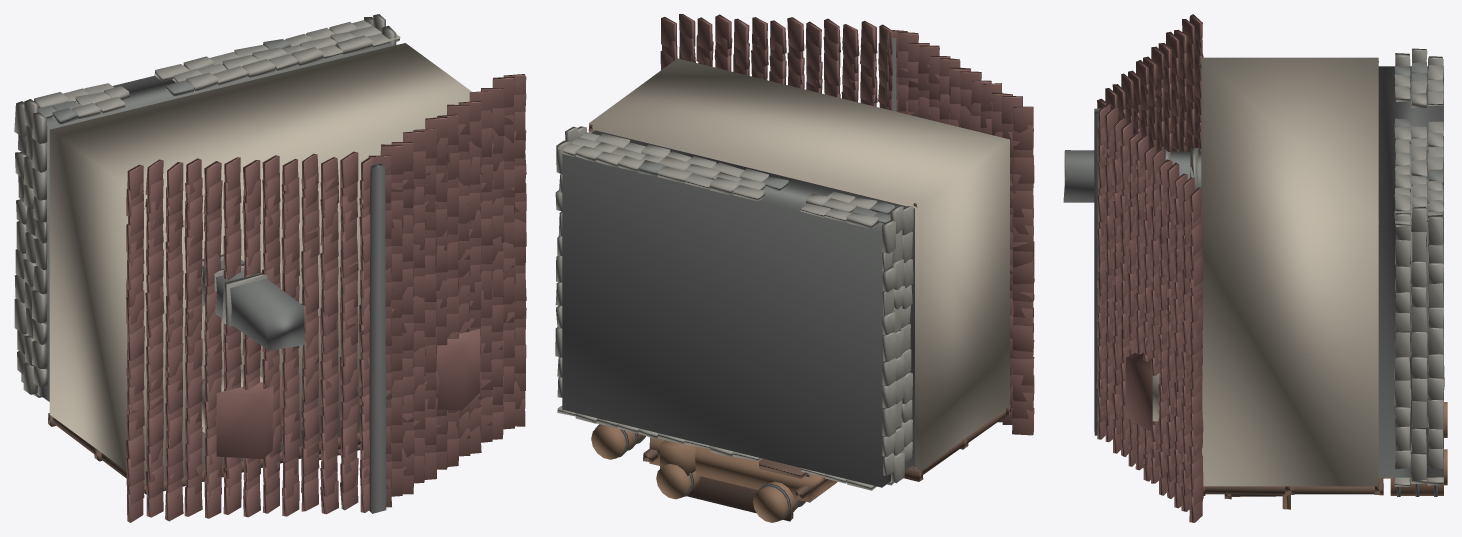
File: tavern_hd.glb
3 views of the same model, side by side, from view 1: azimuth 30°, elevation 25°; view 2: azimuth 150°, elevation 25°; view 3: azimuth 270°, elevation 25° (orthographic). The views are drawn at different scales.
Size of the model in its own units: 8.88 by 8.3 by 7.9.
